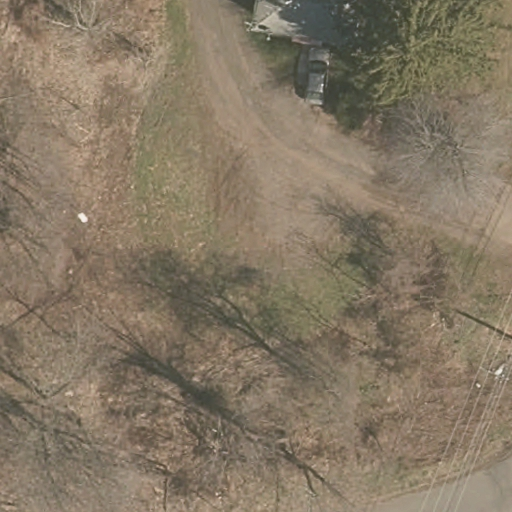DT: (464, 351, 512, 396)
